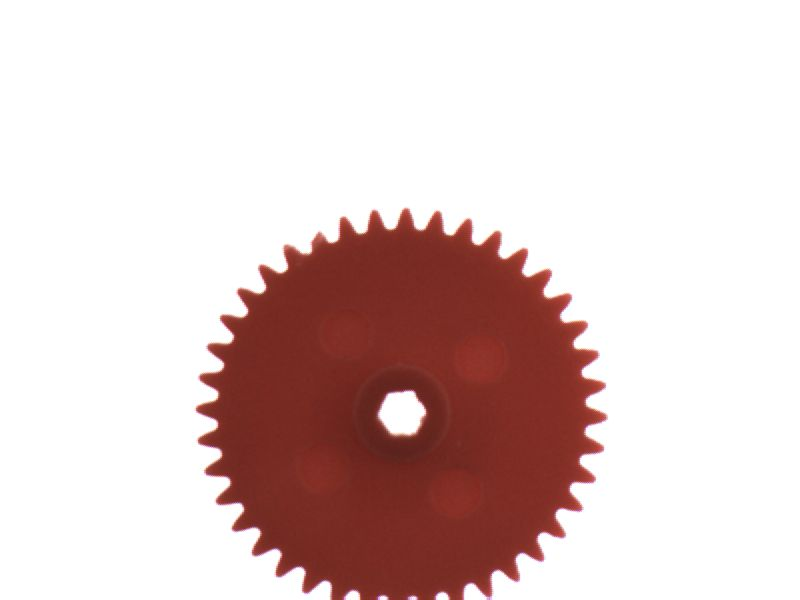defect_break: (300, 212, 338, 259)
